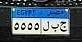5: (27, 22, 33, 31), (13, 23, 20, 30), (34, 23, 40, 31), (21, 23, 26, 30)
baa: (51, 23, 59, 32)
jeem: (59, 21, 68, 32)
laam: (43, 20, 50, 32)
